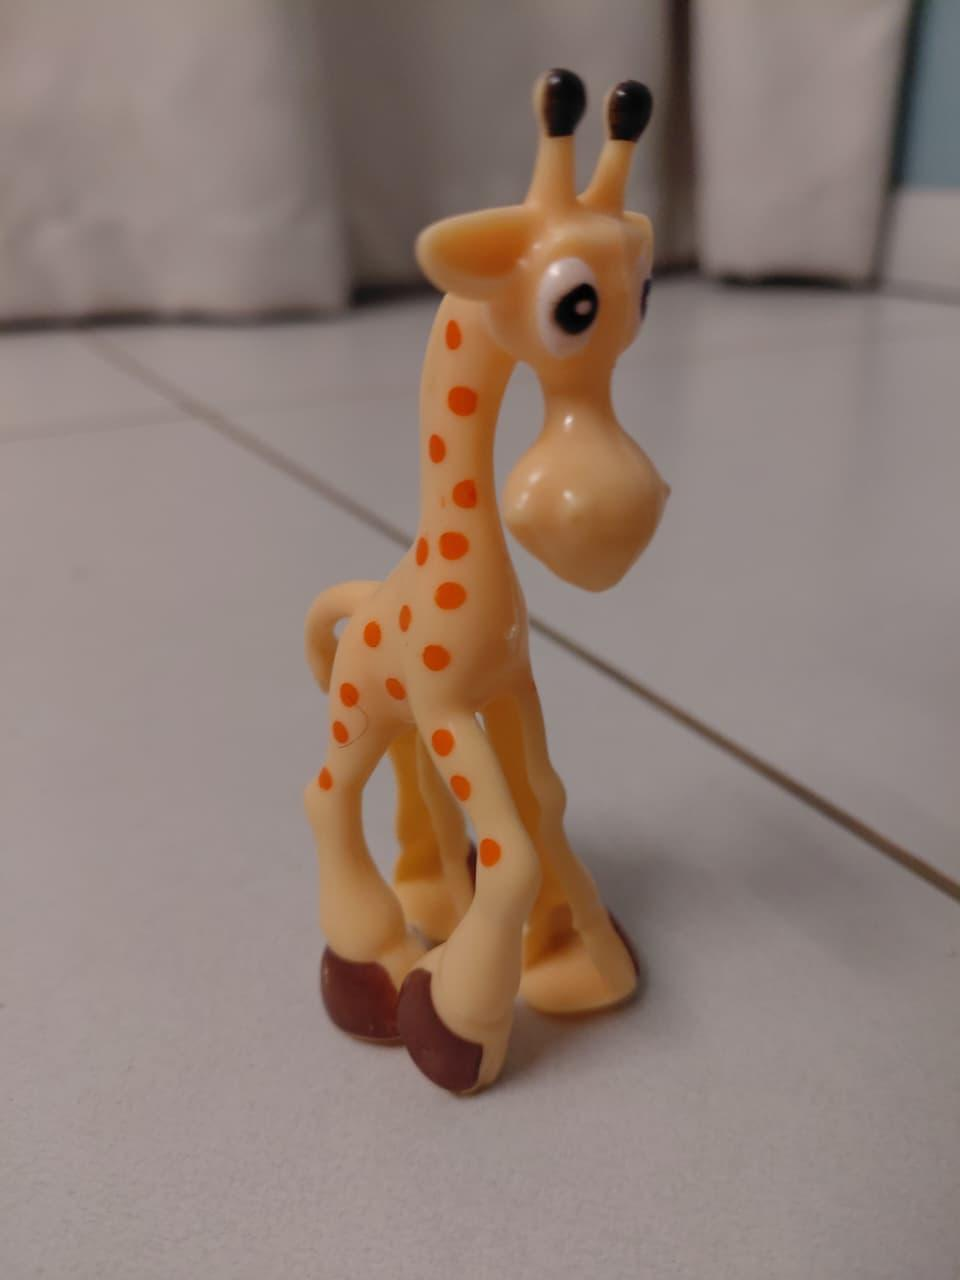giraffe: (275, 20, 762, 1093)
